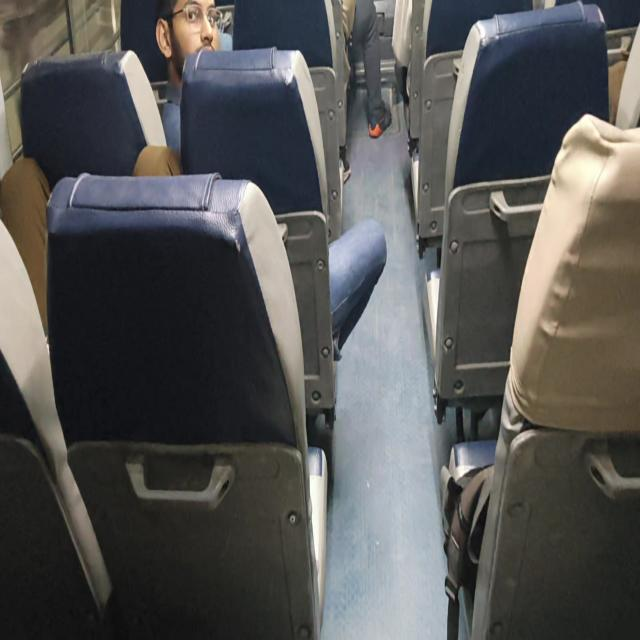person: (166, 0, 217, 68)
